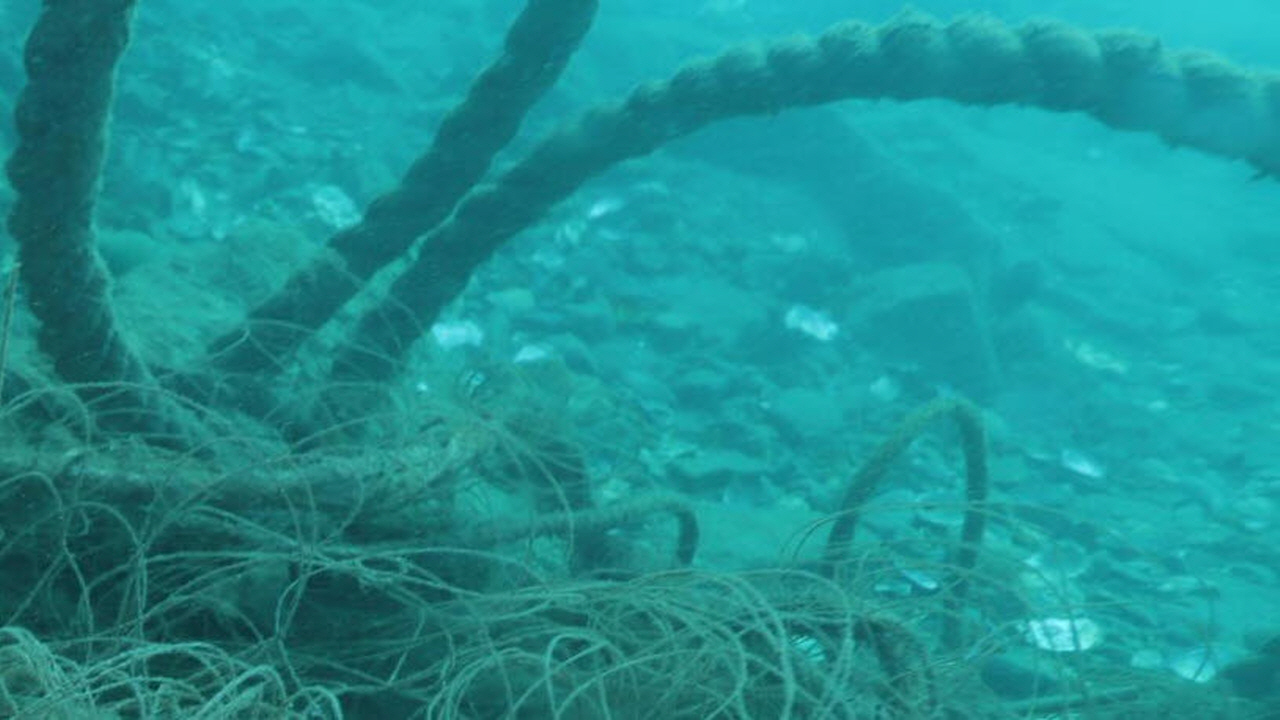bundle of ropes: (0, 451, 703, 569)
rope: (303, 9, 1280, 453), (167, 4, 598, 400), (0, 0, 217, 458), (816, 392, 989, 649)
